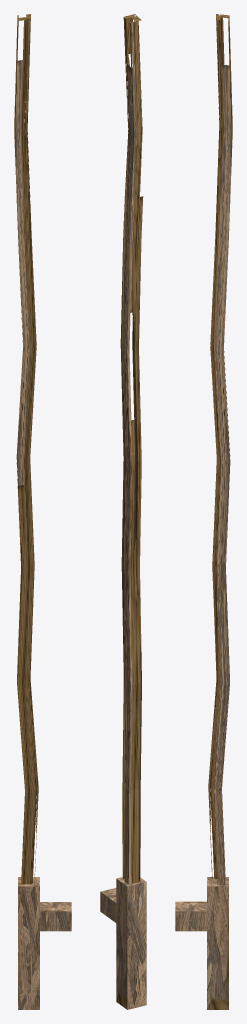
The model's file is Fence_Wood_End.fbx.
3 renders of one model, left to right at view 1: azimuth 90°, elevation 25°; view 2: azimuth 210°, elevation 25°; view 3: azimuth 270°, elevation 25°, orthographic.
Visible parts, largest first — view 1: Cube.021, Wooden_Fence_LF; view 2: Cube.021, Wooden_Fence_LF; view 3: Cube.021, Wooden_Fence_LF.
Part boxes in pixels (<box>): Cube.021: <box>14,14,38,884</box>; Wooden_Fence_LF: <box>18,877,71,1009</box>; Cube.021: <box>120,14,143,884</box>; Wooden_Fence_LF: <box>100,877,146,1009</box>; Cube.021: <box>208,14,232,884</box>; Wooden_Fence_LF: <box>175,877,228,1009</box>.
Bounding box in the file's own units: 25.09 × 1233 × 65.15.
1 material, 1 textured.
